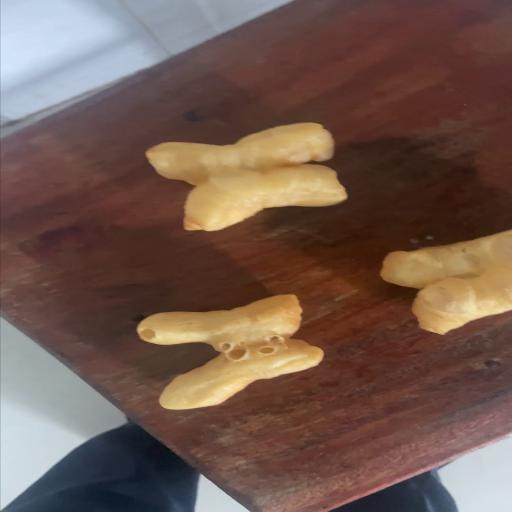street_golden_defect: (137, 296, 324, 408)
street_golden_good: (146, 123, 346, 229), (384, 229, 512, 333)
